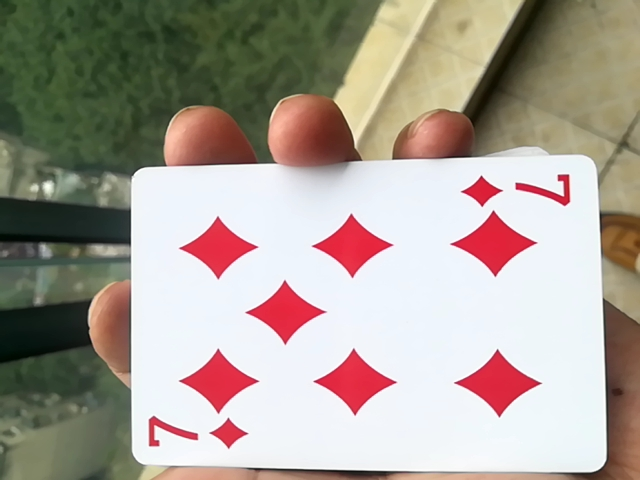fk 7: (114, 162, 612, 479)
